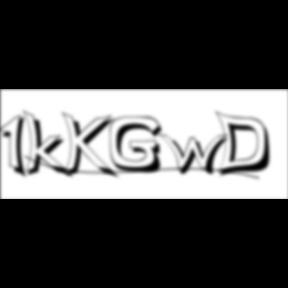1: (1, 114, 34, 182)
D: (214, 110, 278, 180)
G: (110, 116, 170, 176)
K: (62, 110, 120, 182)
k: (22, 108, 76, 181)
w: (158, 132, 236, 178)
